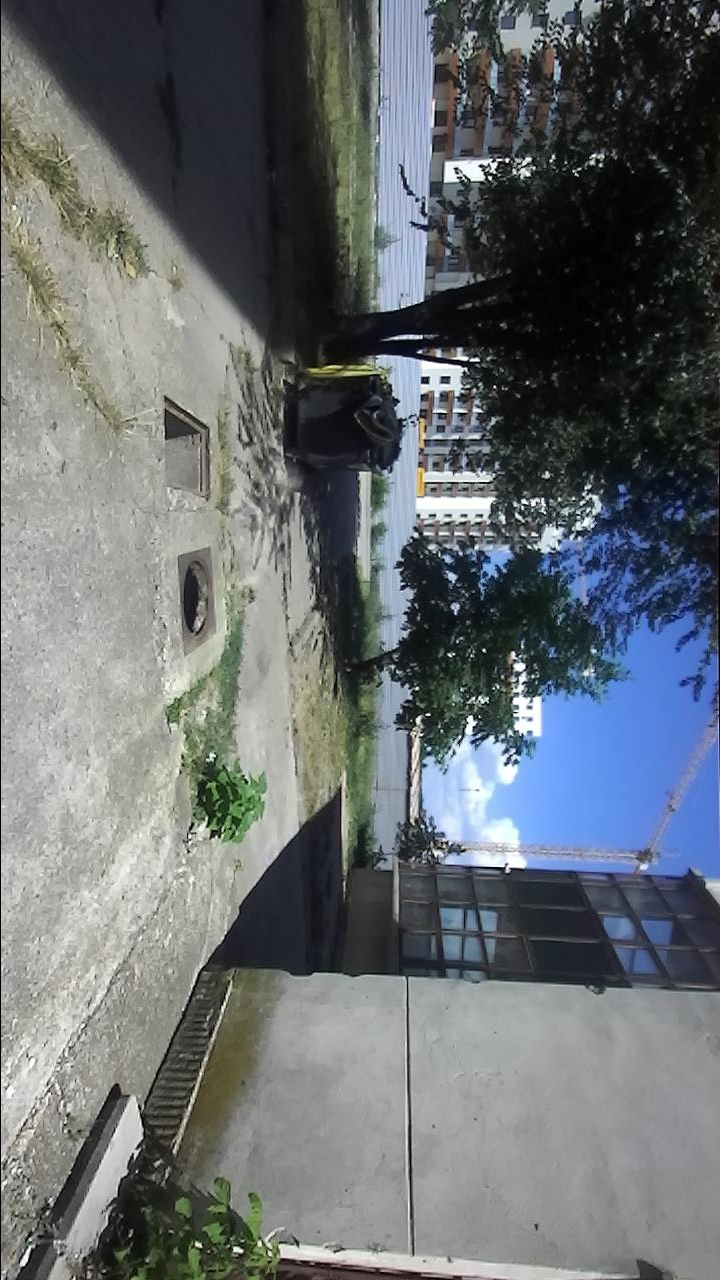drain: (159, 389, 215, 502), (180, 554, 213, 642)
